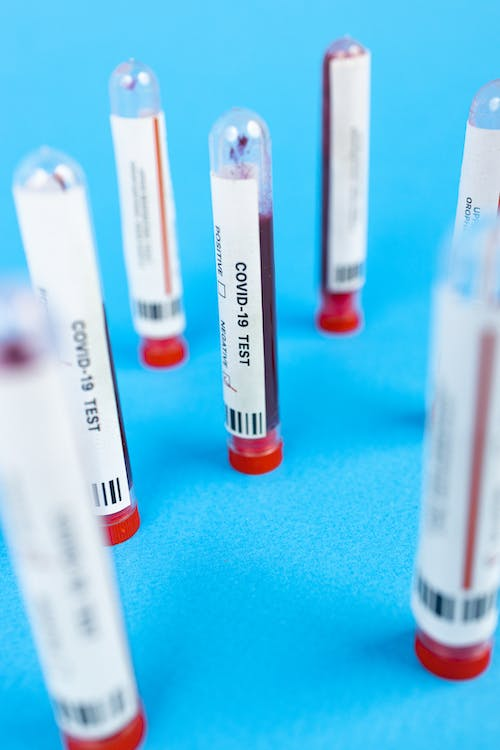blood: (206, 104, 286, 431), (317, 32, 368, 296), (100, 304, 134, 496), (0, 333, 38, 367)
